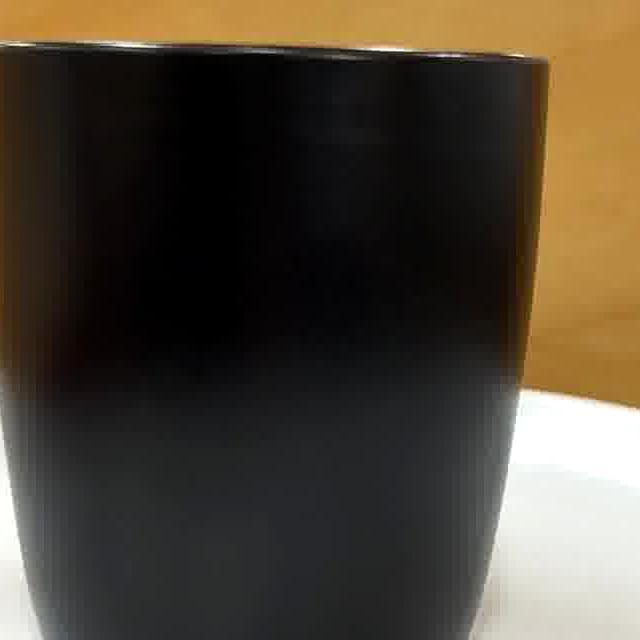cup: (0, 43, 544, 640)
